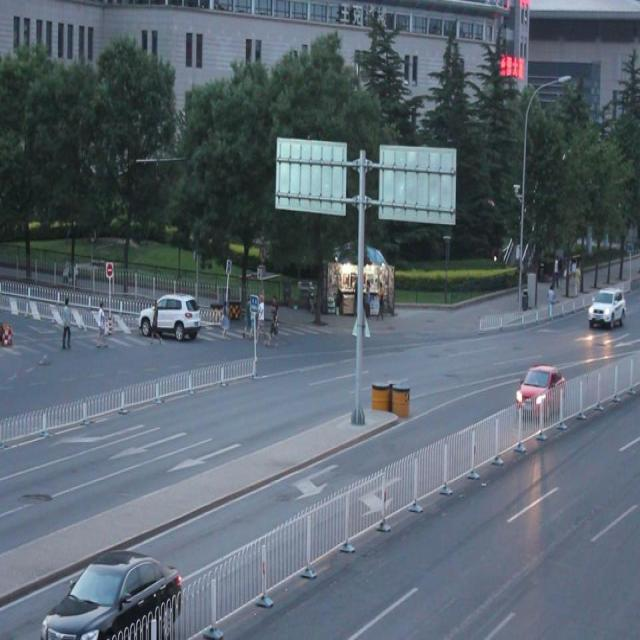car: (41, 547, 181, 640), (139, 292, 201, 338), (516, 363, 564, 417), (586, 288, 624, 326)
